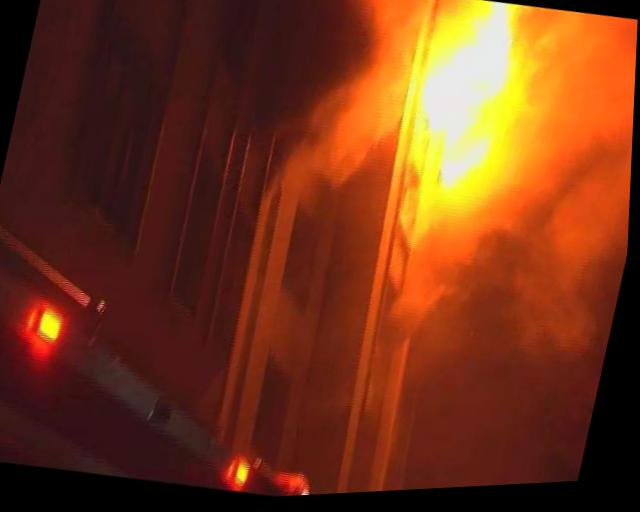fire: (397, 1, 531, 210)
